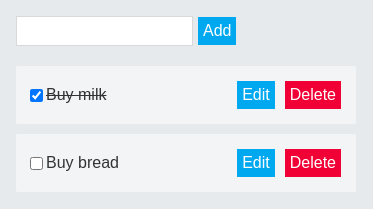
Test case: TodoApp › edit buy bread
The image size is (373, 209).
Step 1. Click the button with test id "edit-button1" → {"x": 256, "y": 163}, box x1=237 y1=149 x2=275 y2=177
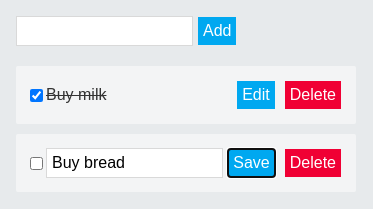
Step 2. Type " 2" into the field with test id "edit-input1" → {"x": 134, "y": 163}, box x1=46 y1=148 x2=223 y2=178
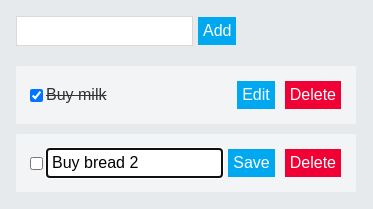
Step 3. Click the button with test id "save1" → {"x": 252, "y": 163}, box x1=228 y1=149 x2=275 y2=177
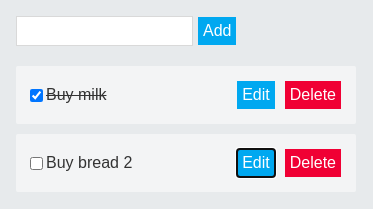
Expected: the text "Buy bread 2" is shown, x1=46 y1=154 x2=132 y2=171
